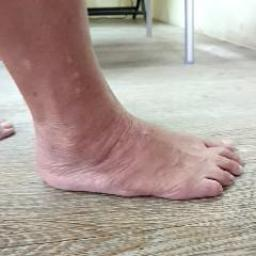Lateral View -Right Foot-: (20, 78, 251, 222)
